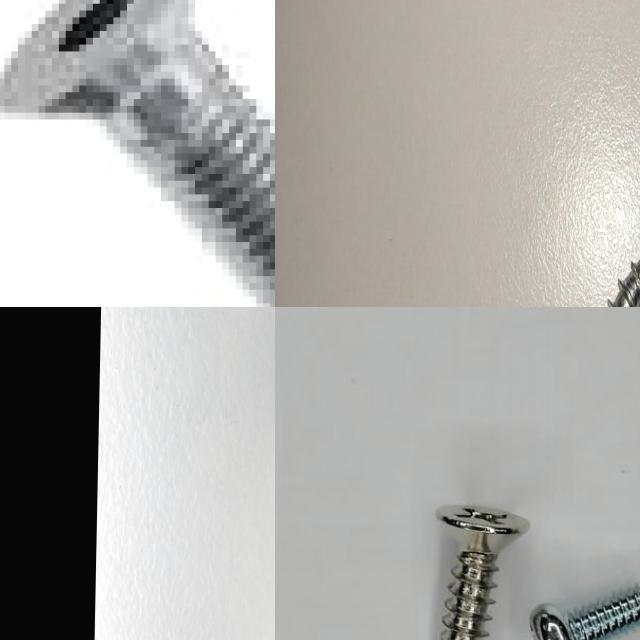Screw: (0, 0, 275, 307), (435, 506, 529, 640), (530, 586, 640, 640)
